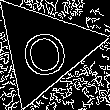O_N: (17, 20, 71, 78)
